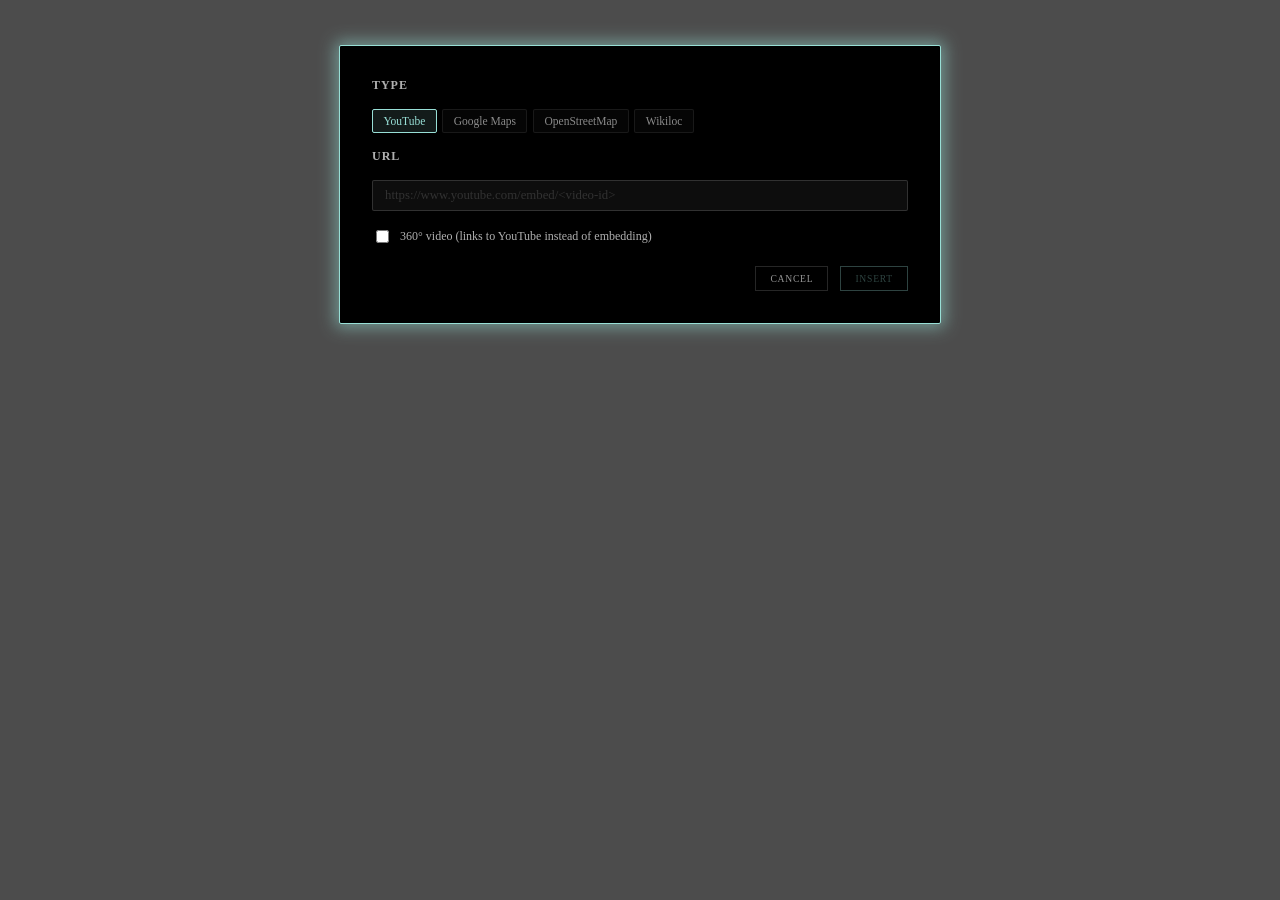
Scenario: EmbedInsertModal › insert button enabled when url is filled
Type "https://www.youtube.com/embed/abc" into the field with test id "embed-url-input" at (640, 195), box [372,180,908,211]
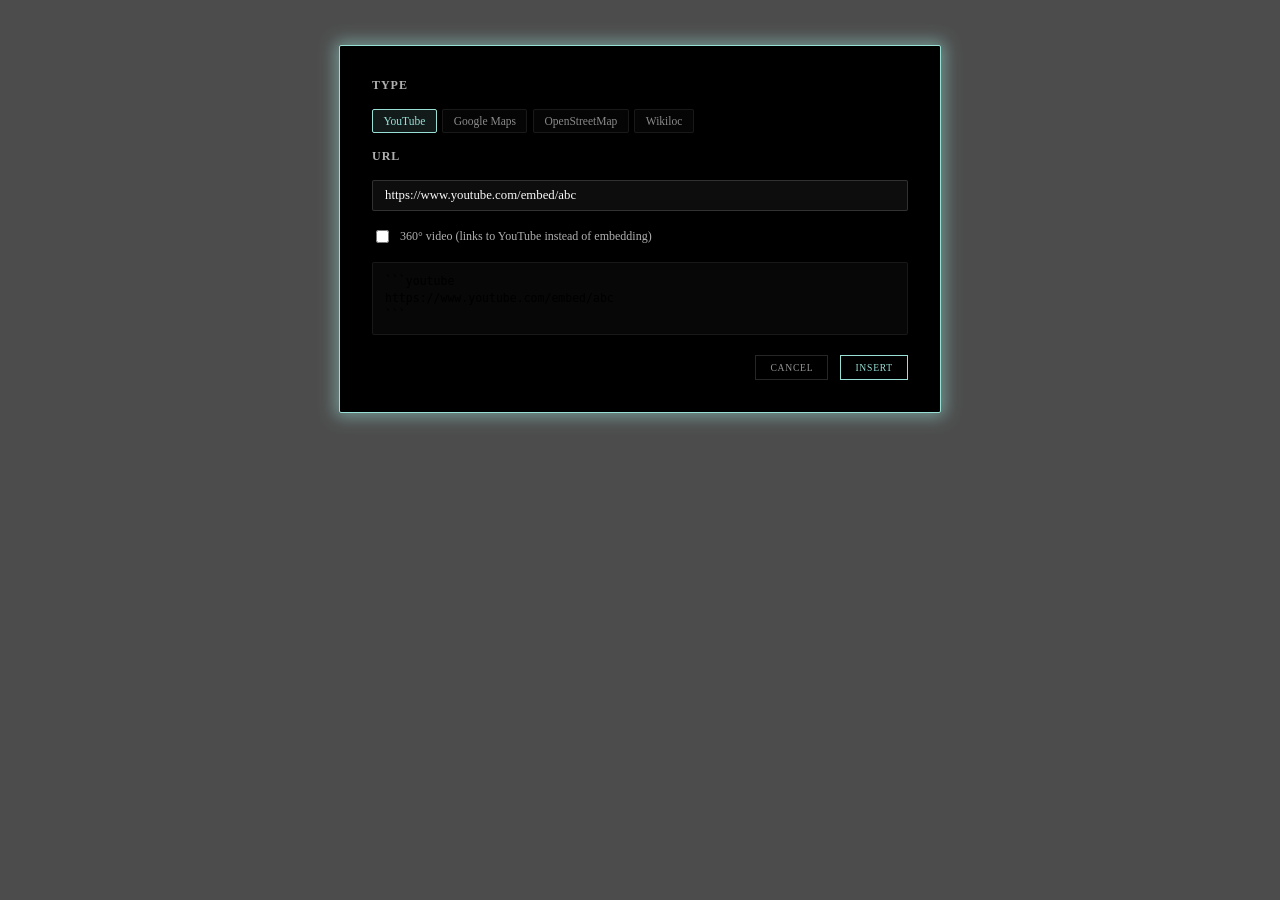
Now the button with test id "embed-modal-insert" is enabled, box [840,355,908,380]
